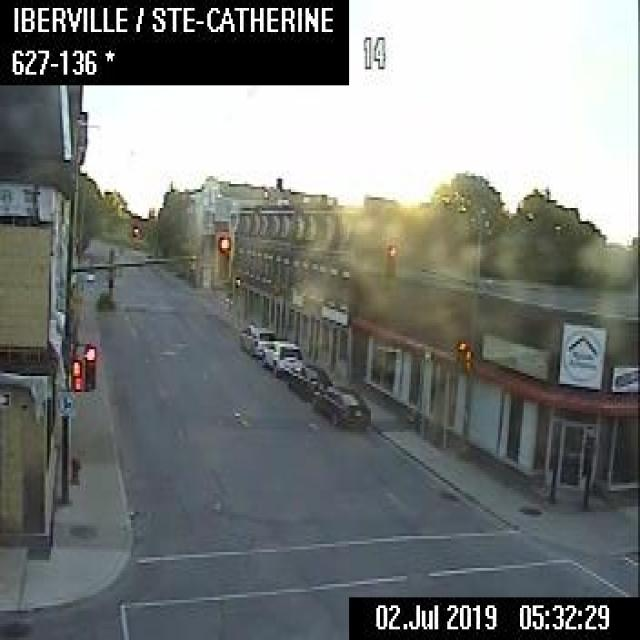vehicle: (310, 382, 370, 429), (286, 362, 332, 402), (260, 337, 301, 375), (238, 320, 274, 356)
